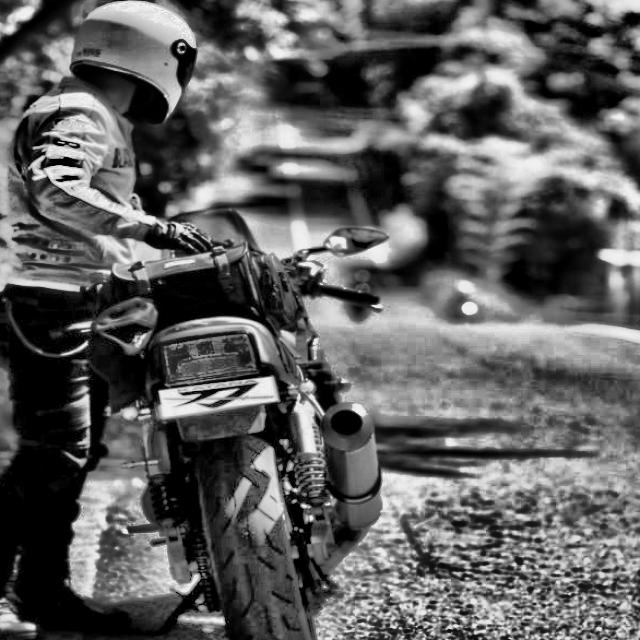Helmet: (64, 0, 201, 130)
